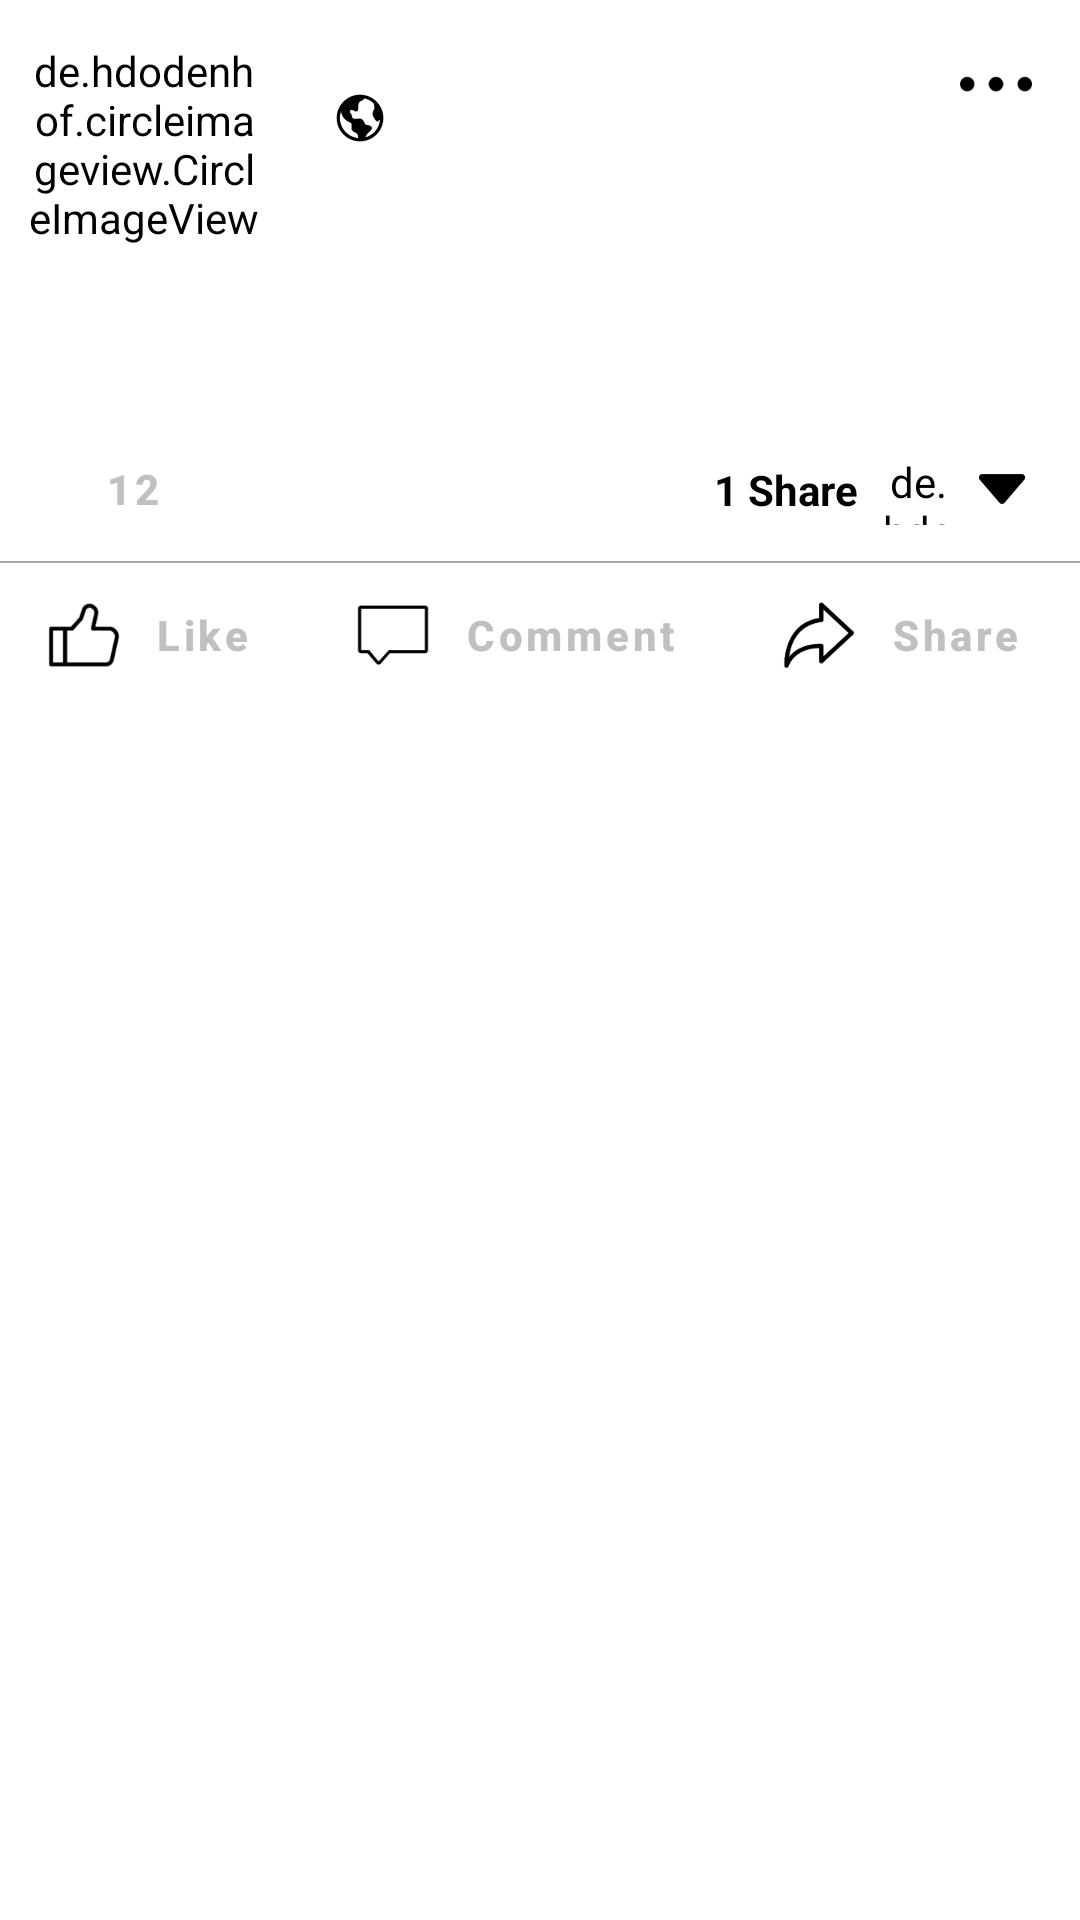

Named icons in this screenshot (1080w x 1920h) and their centers, [x,y]:
down: [1002,489]
earth: [360,118]
more: [996,84]
